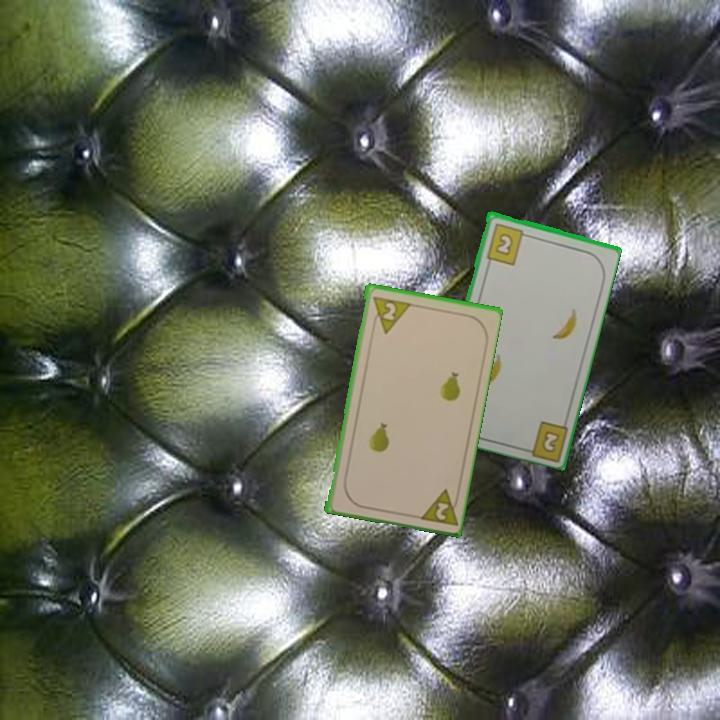2b: (483, 219, 532, 267), (538, 427, 562, 456)
2p: (414, 484, 462, 528), (378, 298, 399, 323)
